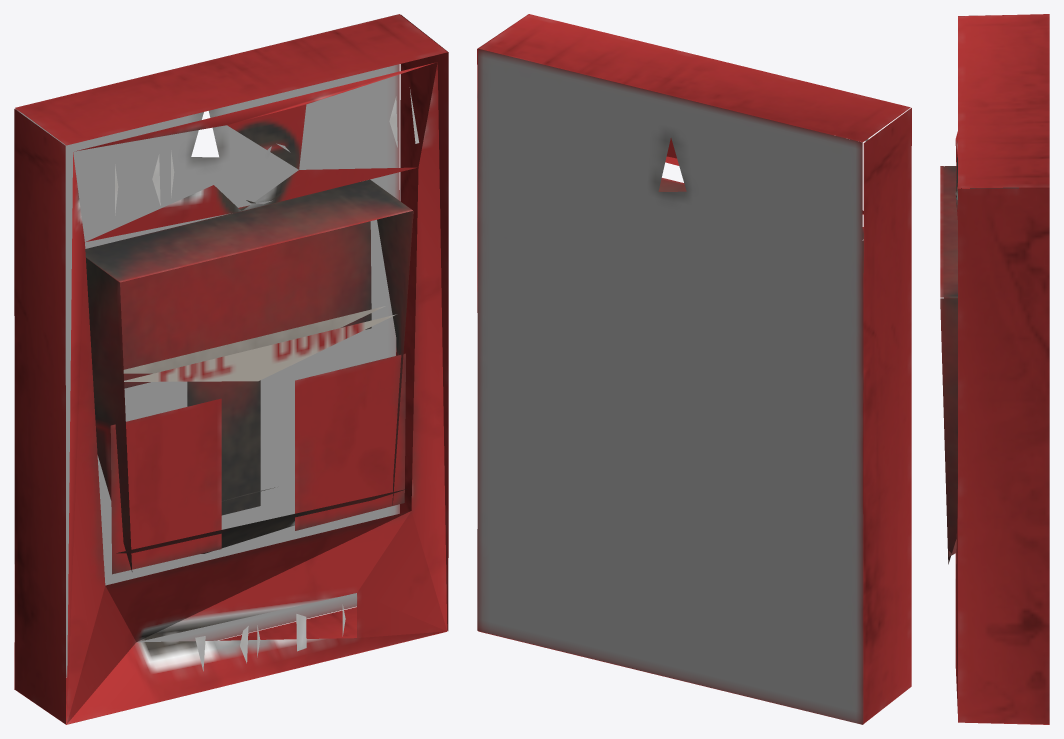
File: FireAlarm.fbx
3 views of the same model, side by side, from view 1: azimuth 30°, elevation 25°; view 2: azimuth 150°, elevation 25°; view 3: azimuth 270°, elevation 25° (orthographic). The views are drawn at different scales.
Visible parts, largest first — view 1: пожарный рычажок кнопка хз как называется; view 2: пожарный рычажок кнопка хз как называется; view 3: пожарный рычажок кнопка хз как называется.
Part boxes in pixels (x1,y1,x2,y2): пожарный рычажок кнопка хз как называется: (14,14,448,724); пожарный рычажок кнопка хз как называется: (477,14,911,724); пожарный рычажок кнопка хз как называется: (940,14,1049,724).
Size of the model in its own units: 0.099 by 0.1427 by 0.0264.
Materials: 1 (1 with a texture image).
